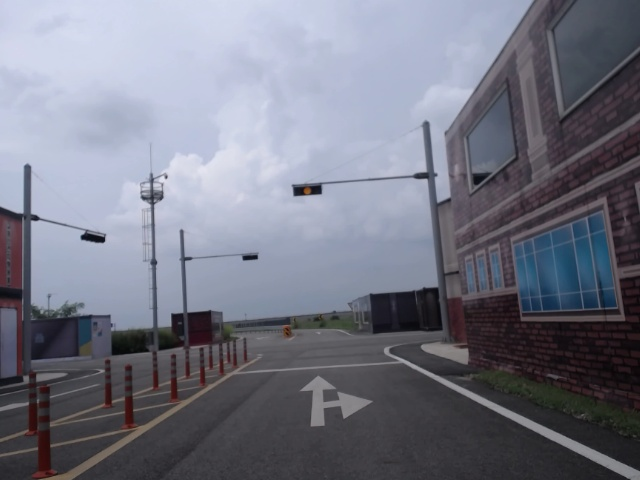orange_3: (292, 182, 322, 196)
